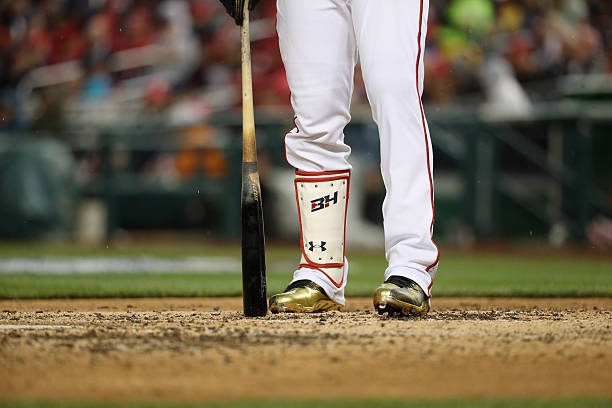bita: (239, 1, 272, 315)
